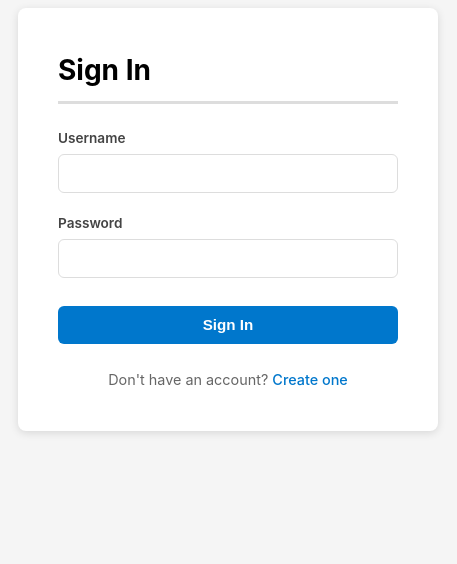
Test case: LoginPage › shows error message on failed login
Type "alice" into the field labelled "Username" at (228, 174), box [58,154,398,193]
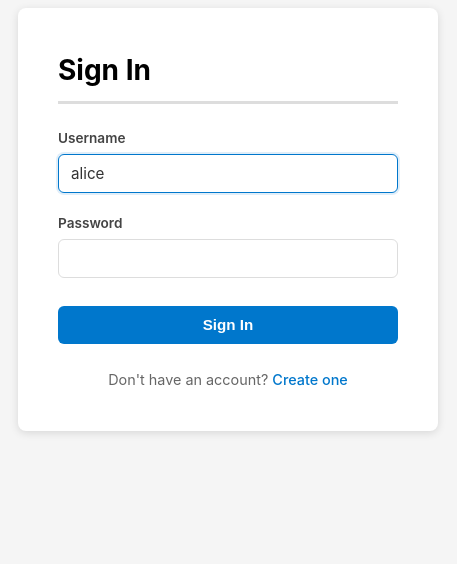
Type "wrong" into the password field labelled "Password" at (228, 259), box [58,240,398,278]
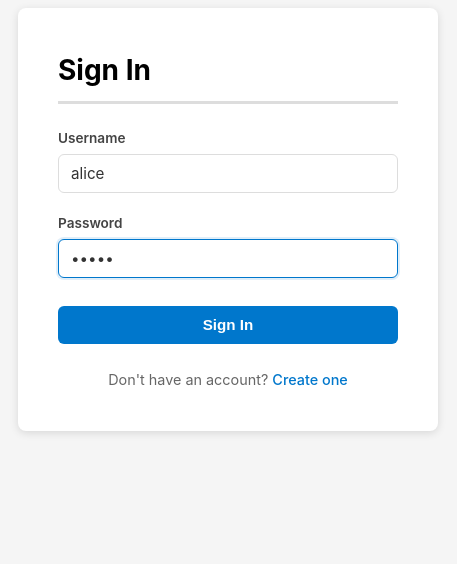
Click the button "Sign In" at (228, 325), box [58,306,398,344]
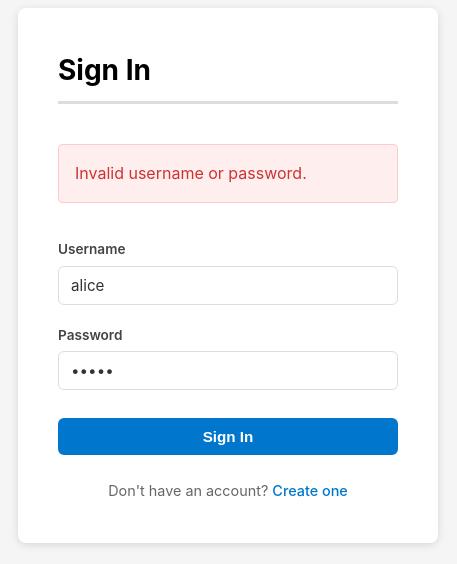
Check: the text "Invalid username or password." is shown, box [58,144,398,203]
